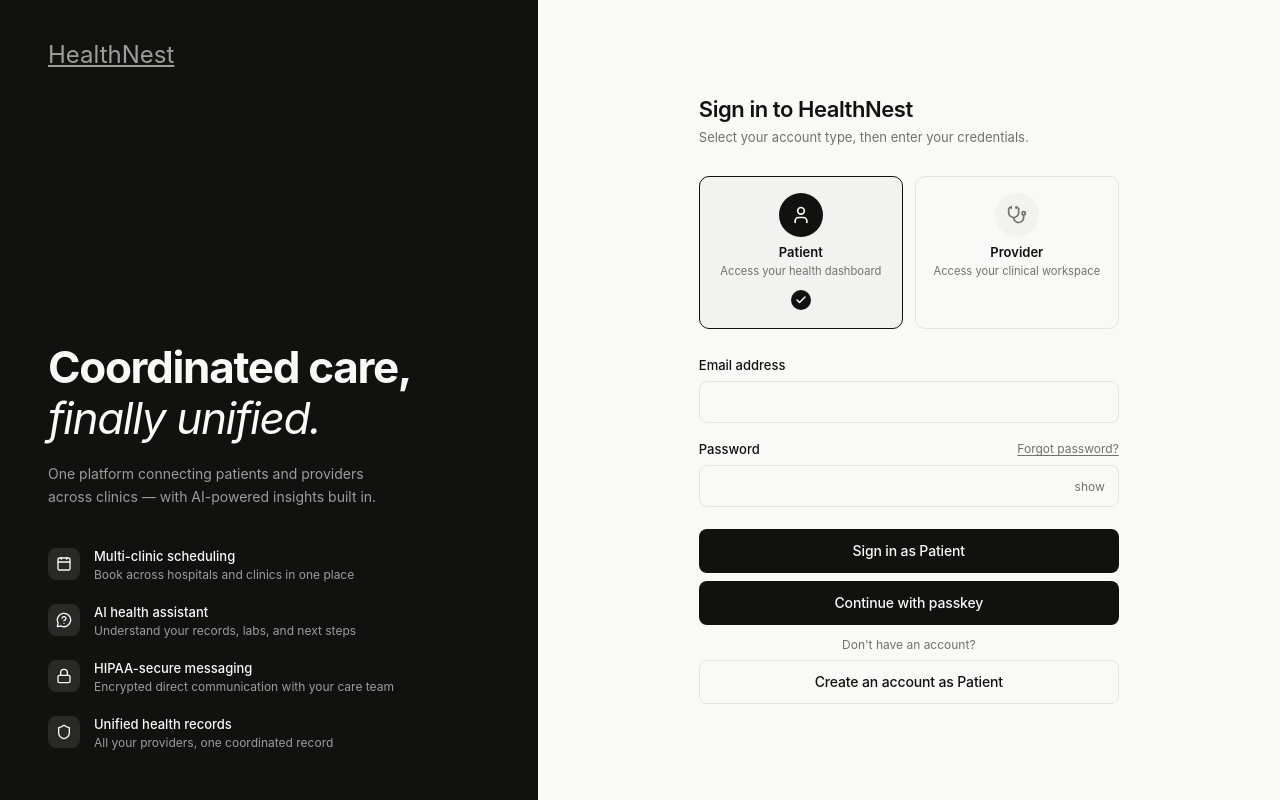
it: Login › switches to provider role when provider button is clicked
What coordinates should you click on to do the following:
click the text "Provider"
I would click on:
 (1017, 252)
Its box is [990,245,1043,260].
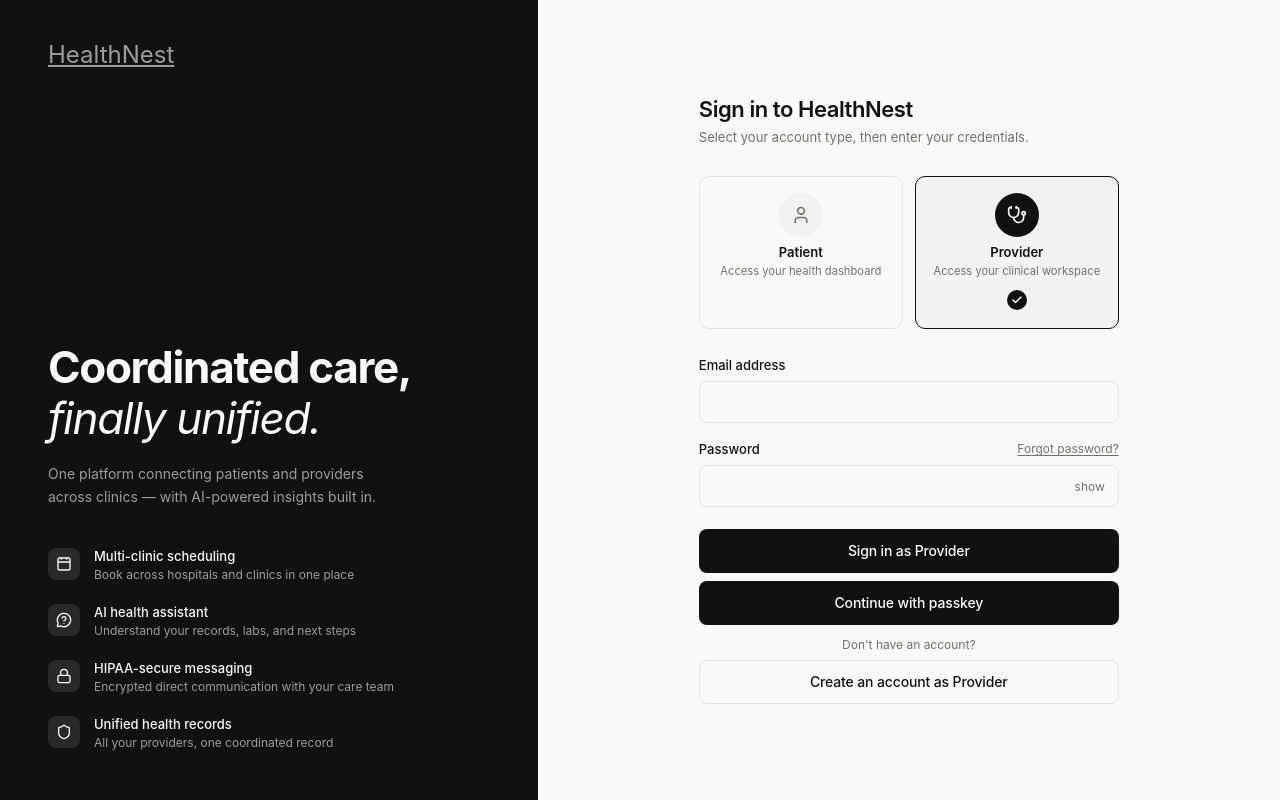
Expected: the button "Sign in as Provider" is shown, [699,529,1119,573]
Expected: the button "Create an account as Provider" is shown, [699,660,1119,704]
